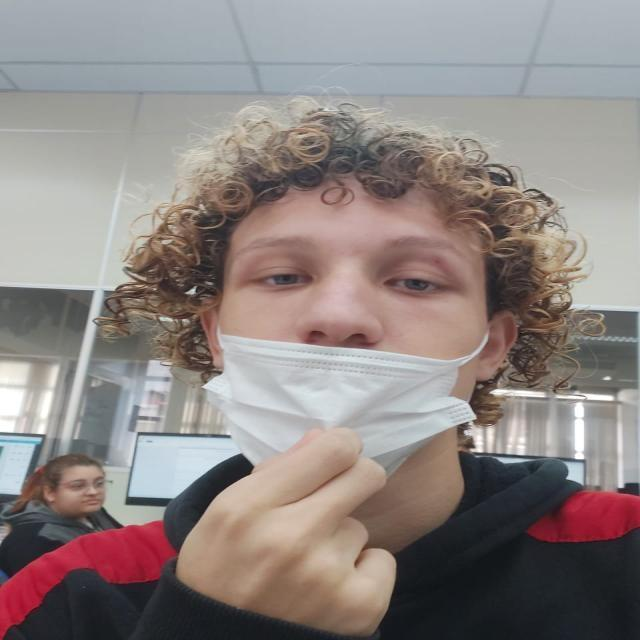hairnet: (216, 194, 477, 445)
